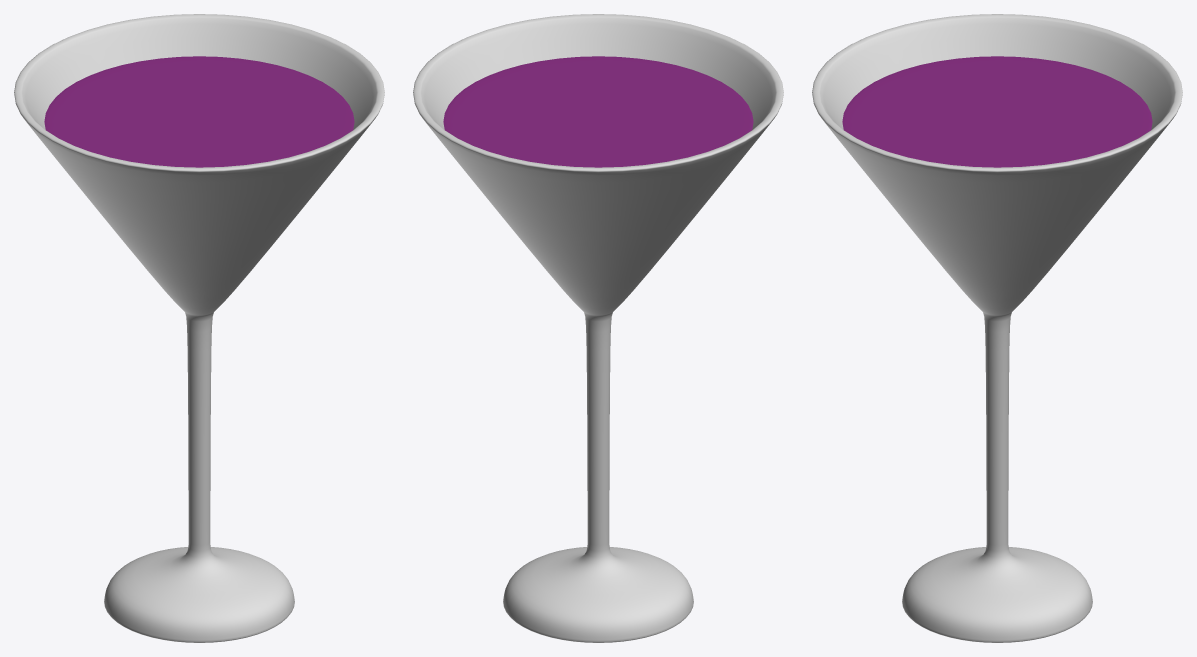
Rendered from wein_glass.glb.
The picture shows the model from 3 angles, left to right: view 1: azimuth 30°, elevation 25°; view 2: azimuth 150°, elevation 25°; view 3: azimuth 270°, elevation 25°; orthographic projection.
Visible parts, largest first — view 1: Drink_020_59; view 2: Drink_020_59; view 3: Drink_020_59.
Boxes of the visible parts, x1=… form: Drink_020_59: x1=14, y1=14, x2=384, y2=642; Drink_020_59: x1=413, y1=14, x2=783, y2=642; Drink_020_59: x1=812, y1=14, x2=1182, y2=642.
Size of the model in its own units: 0.7097 by 1.08 by 0.7097.
